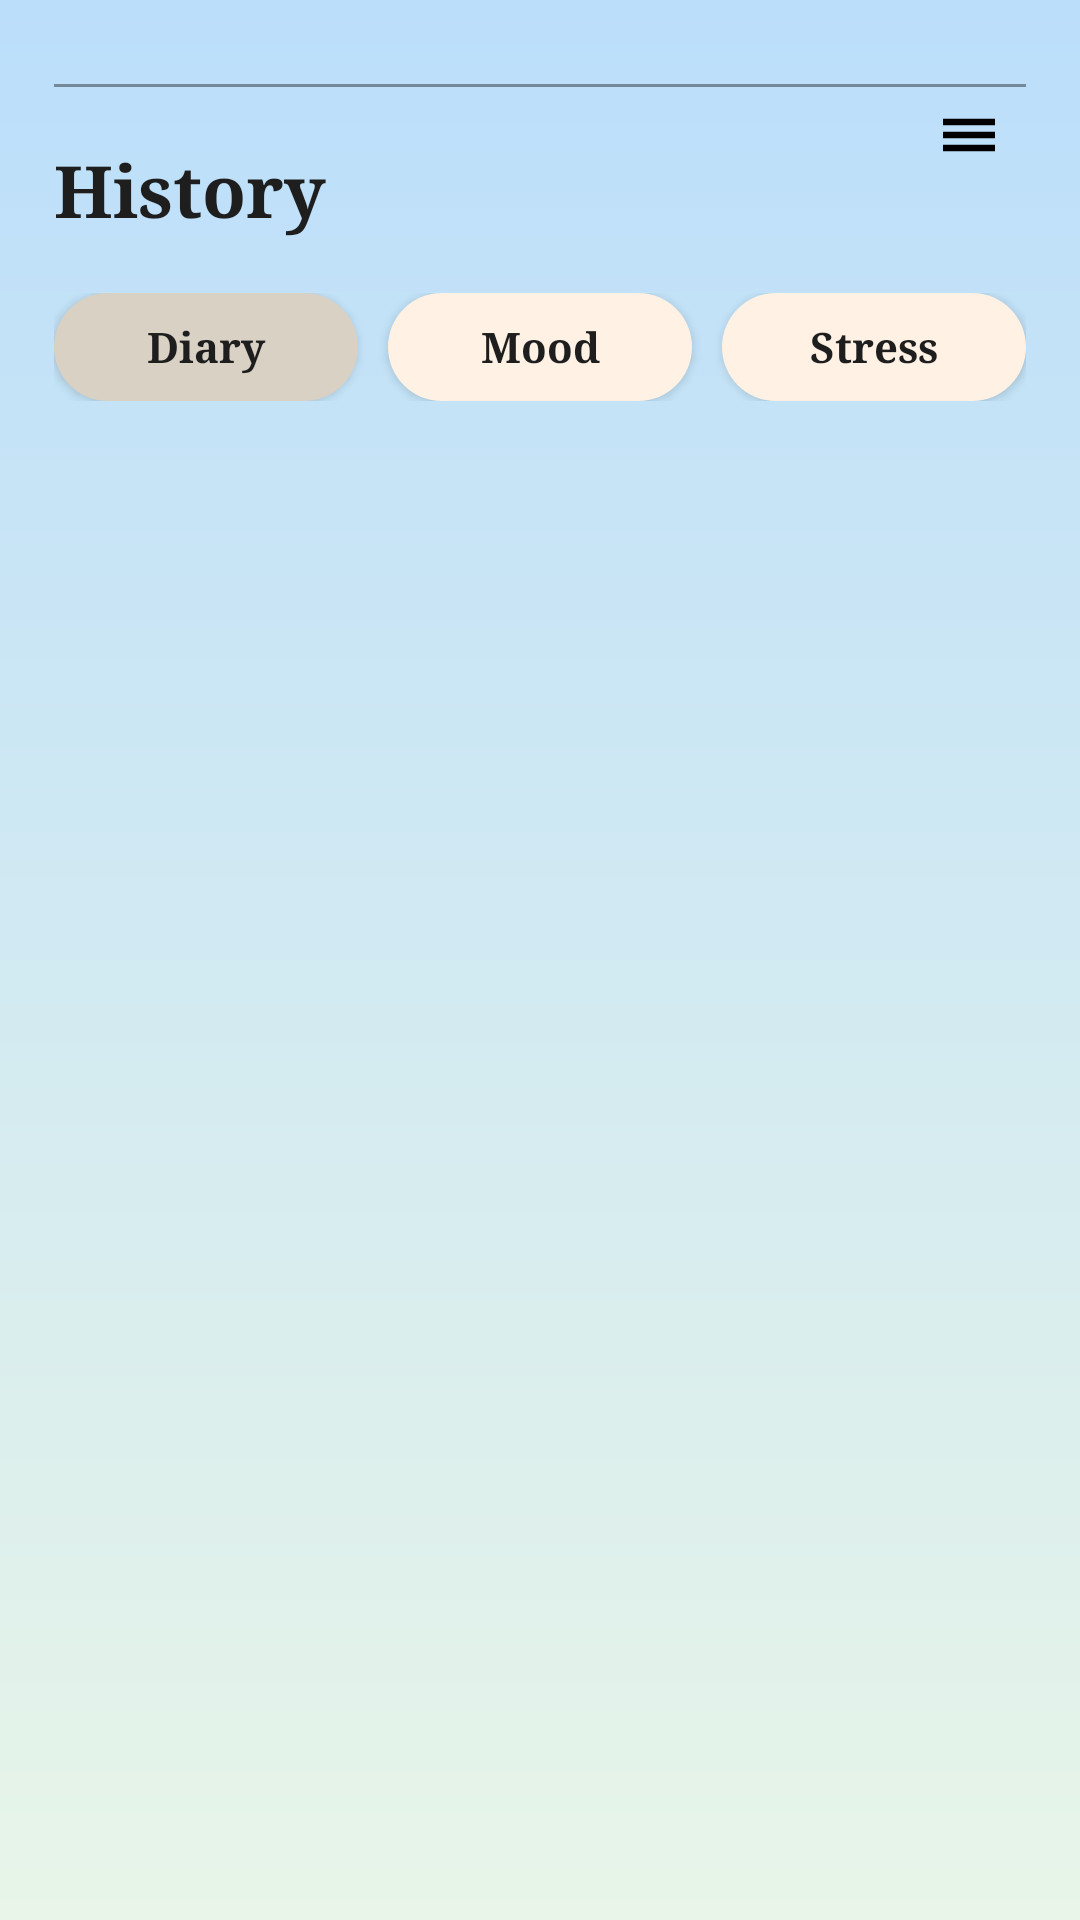

Named icons in this screenshot (1080 × 1920) and their centers, point (x, y):
Menu: point (969, 135)
